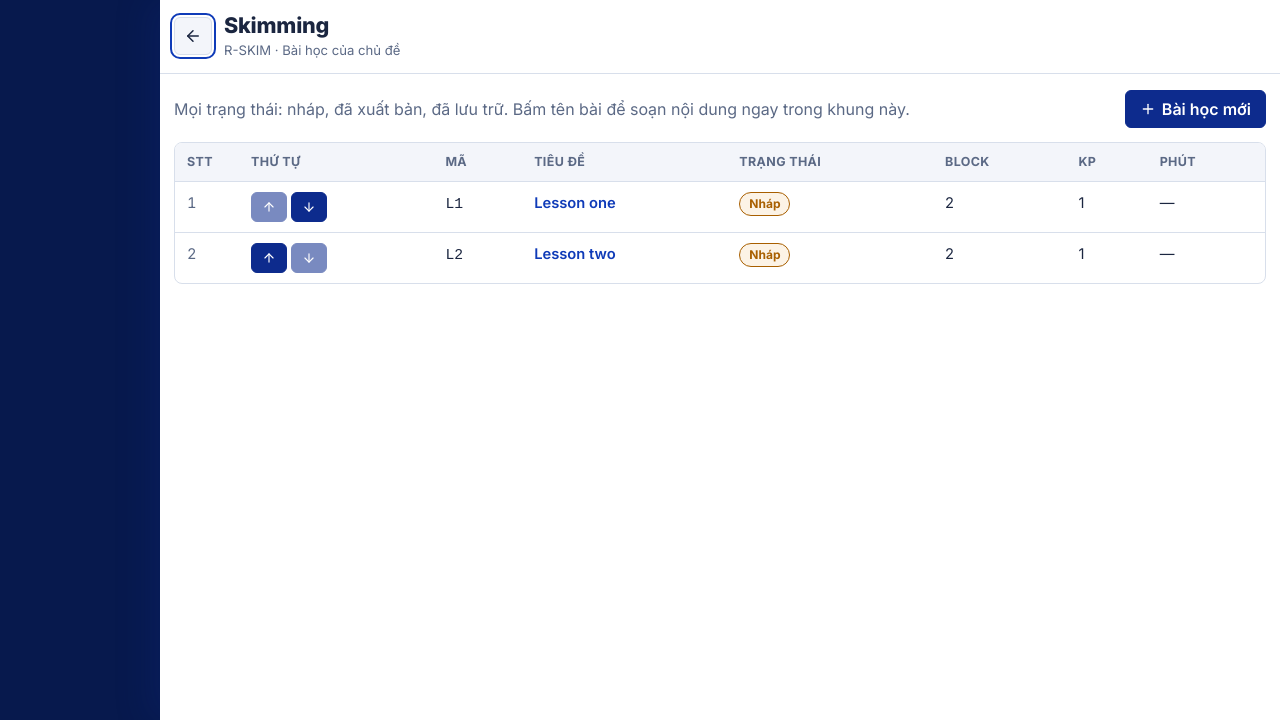
Test: TopicLessonsDrawer › opens a lesson for editing inside the drawer and steps back to the list
Click the button "Lesson one". click: (575, 203)
box: left=534, top=192, right=616, bottom=214
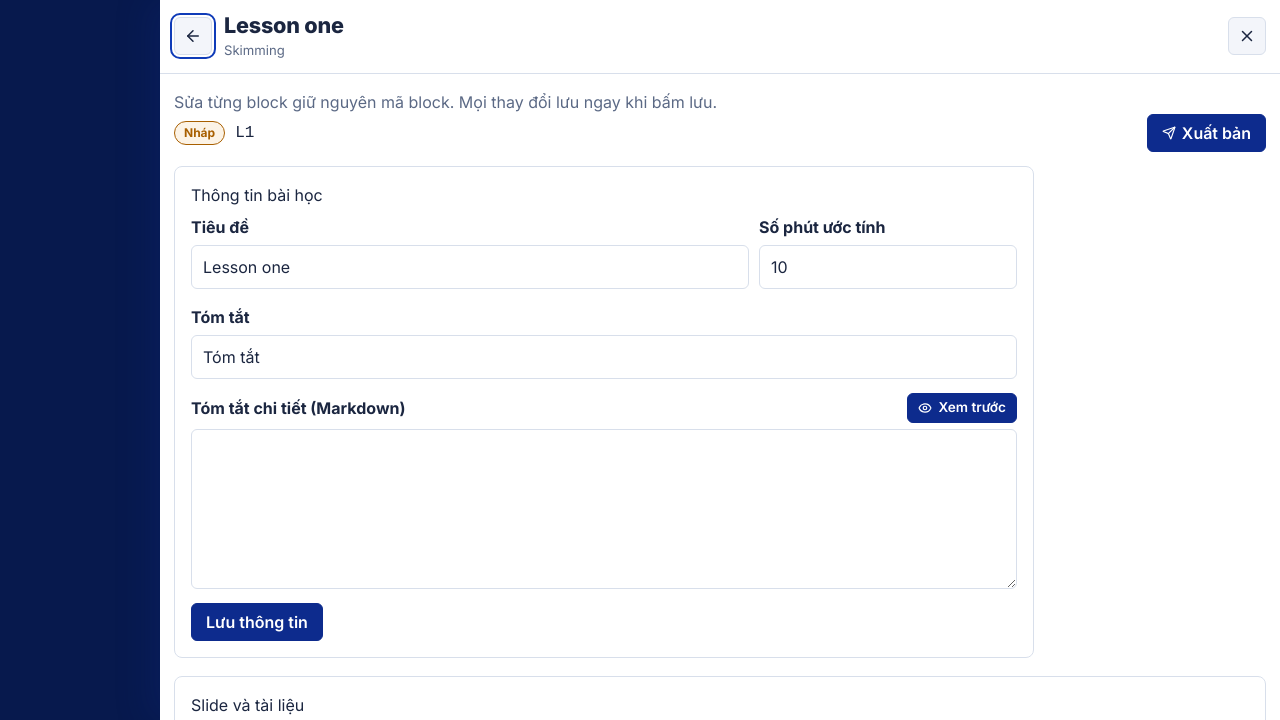
Now the form "Thông tin bài học" is shown, box left=174, top=166, right=1034, bottom=658
Click the button named "Về danh sách bài học". click: (193, 36)
box: left=174, top=17, right=212, bottom=55
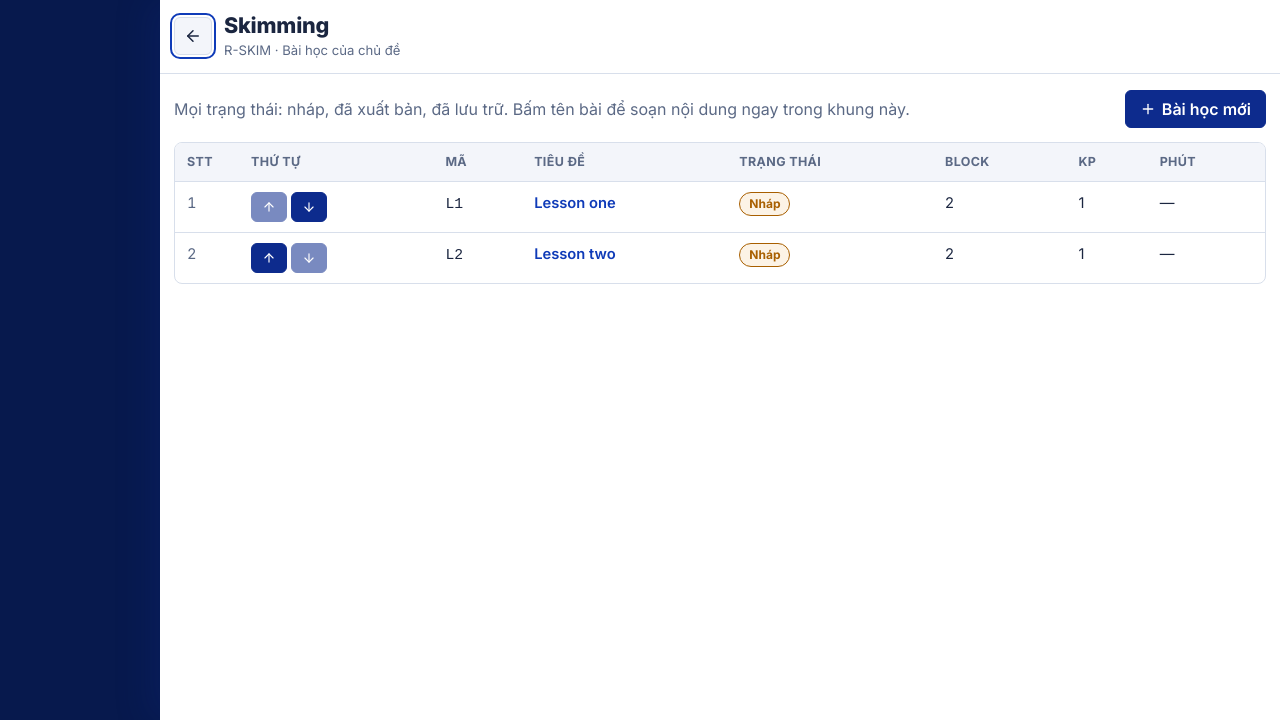
Now the button "Lesson two" is shown, box left=534, top=243, right=616, bottom=266
